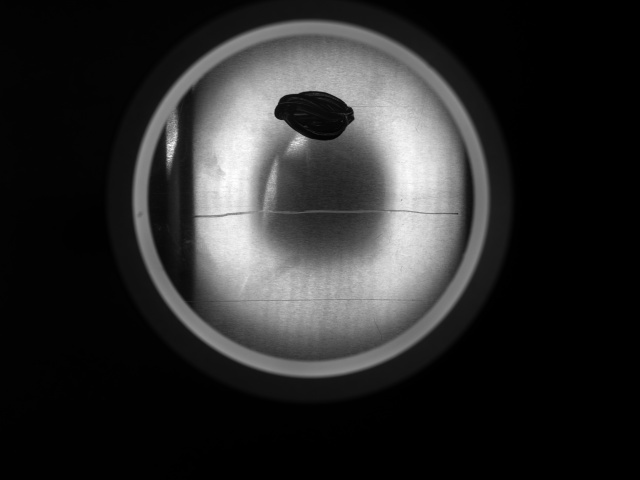ca_shang: (161, 206, 463, 227), (179, 294, 441, 307)
zang_wu: (270, 90, 353, 142)
